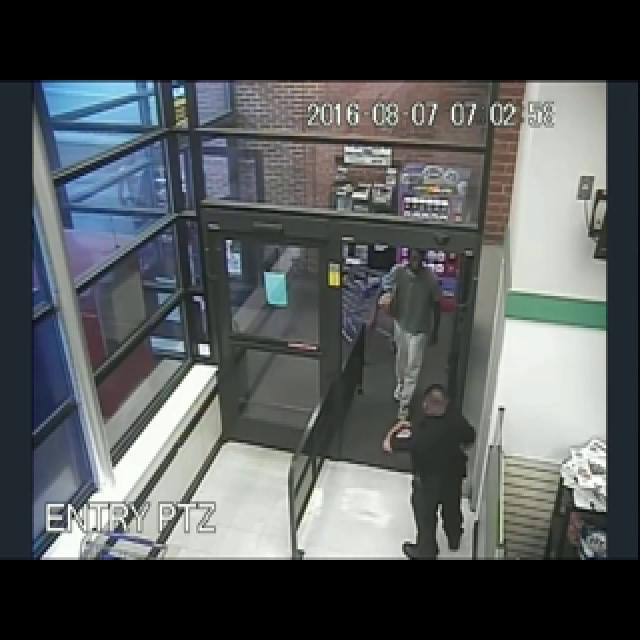arrest: (334, 147, 557, 588)
